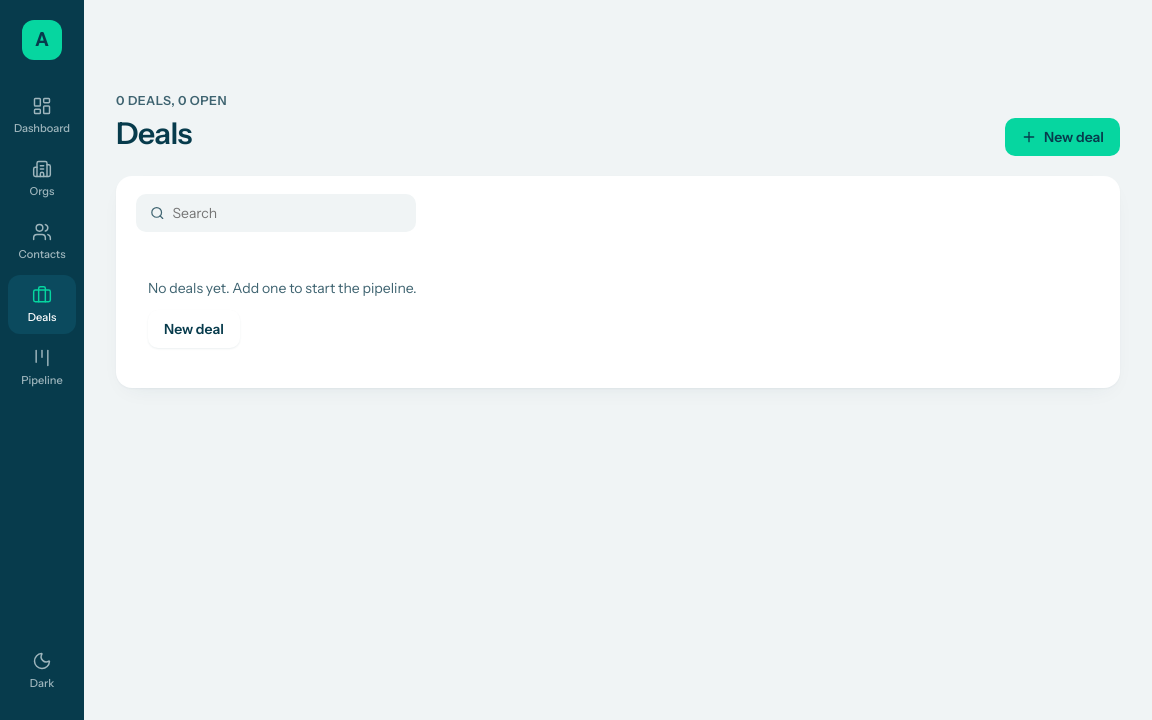
Test: the deals list › invites adding the first deal when there are none
Check: the text "No deals yet. Add one to start the pipeline." is shown, box [148, 278, 417, 298]
Check: the text "0 deals, 0 open" is shown, box [116, 92, 227, 110]
Click the 2nd button "New deal" at (194, 329), box [148, 310, 240, 348]
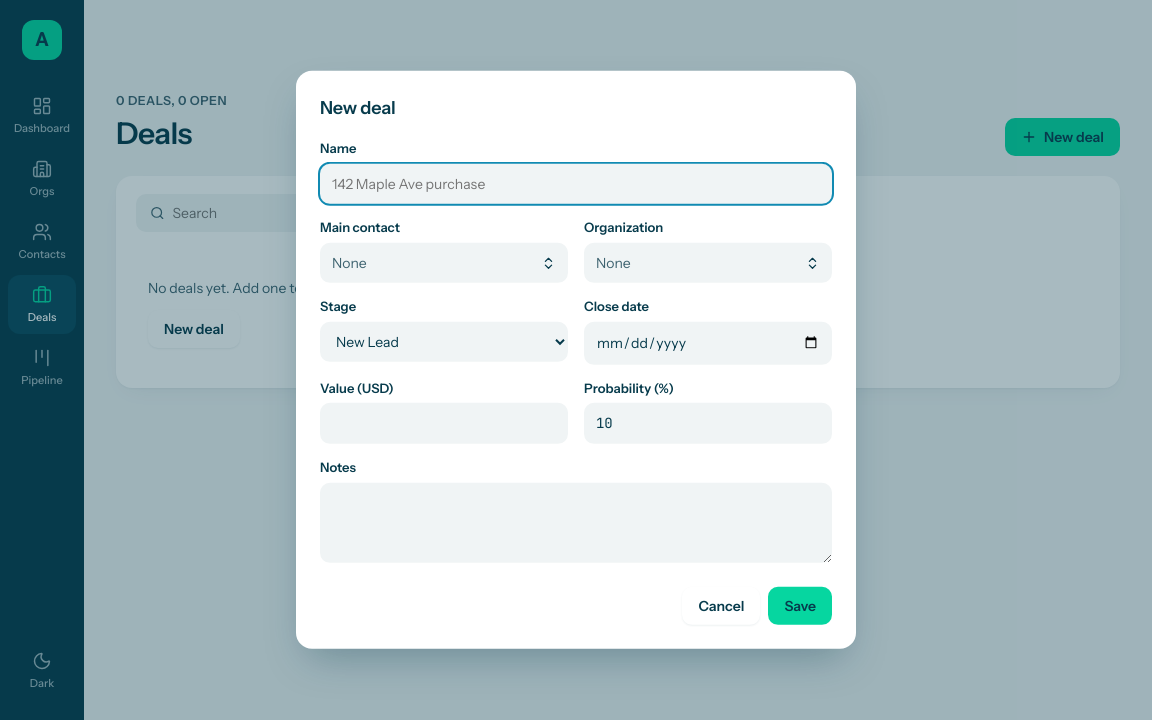
Check: the dialog "New deal" is shown, box [296, 71, 856, 649]
